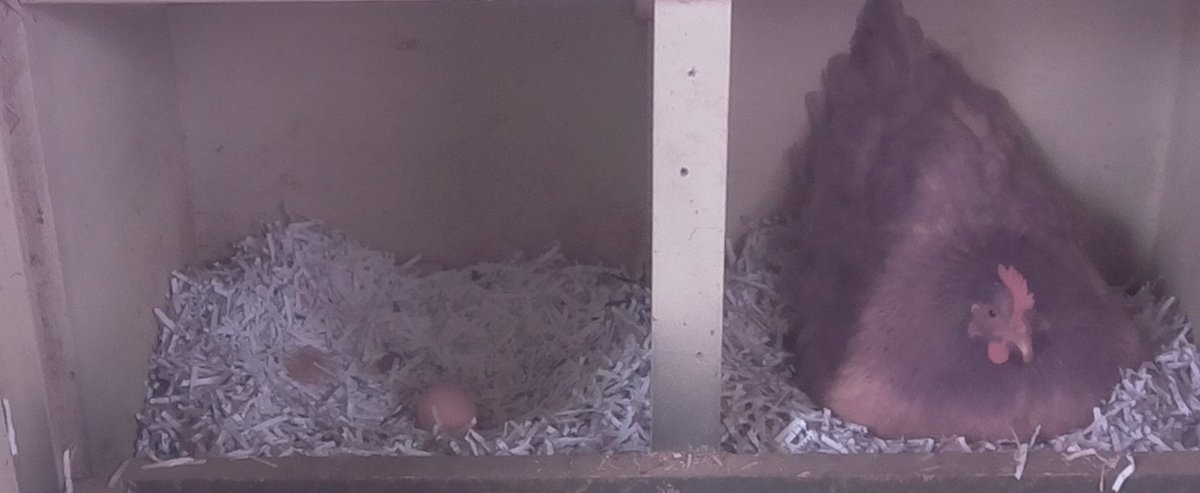egg: (410, 377, 481, 442)
hen: (770, 12, 1157, 451)
